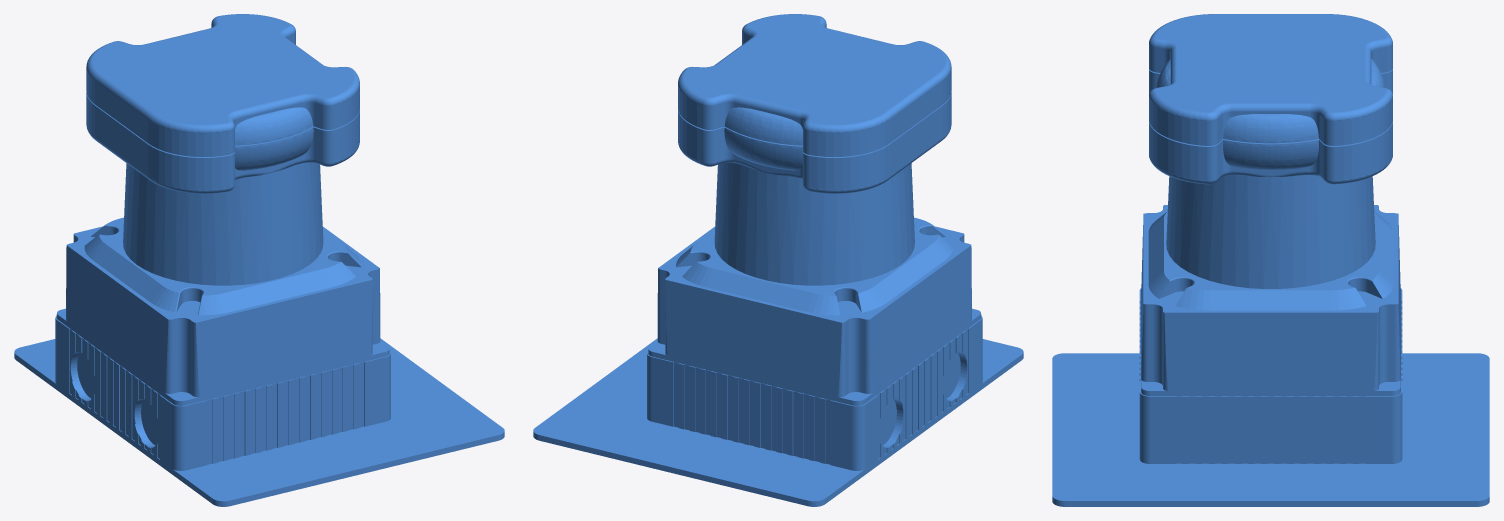
Rendered from front_lrf.dae.
3 views of the same model, side by side, from view 1: azimuth 30°, elevation 25°; view 2: azimuth 150°, elevation 25°; view 3: azimuth 270°, elevation 25° (orthographic). The views are drawn at different scales.
Visible parts, largest first — view 1: Front_Lrf; view 2: Front_Lrf; view 3: Front_Lrf.
Part boxes in pixels (bbox=[...]): Front_Lrf: bbox=[14, 14, 504, 506]; Front_Lrf: bbox=[533, 14, 1023, 506]; Front_Lrf: bbox=[1052, 14, 1489, 506].
Bounding box in the file's own units: 80 × 100 × 88.55.
